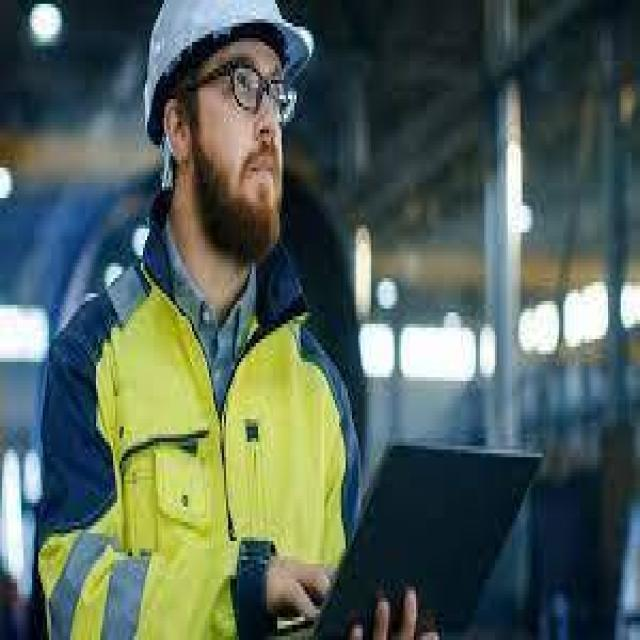safety_helmet: (34, 210, 361, 640)
